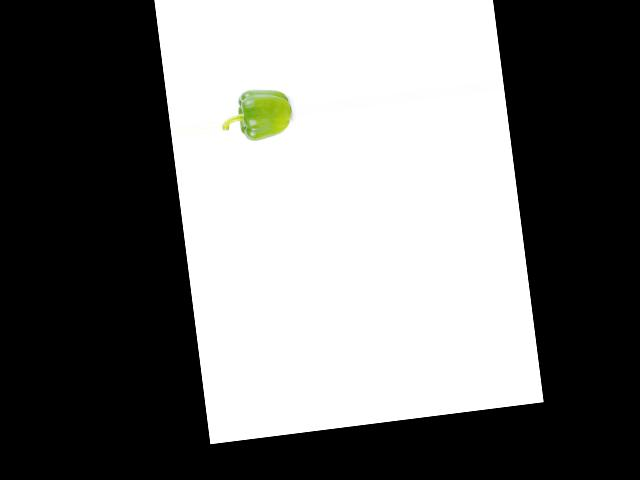bell_pepper: (218, 77, 294, 145)
